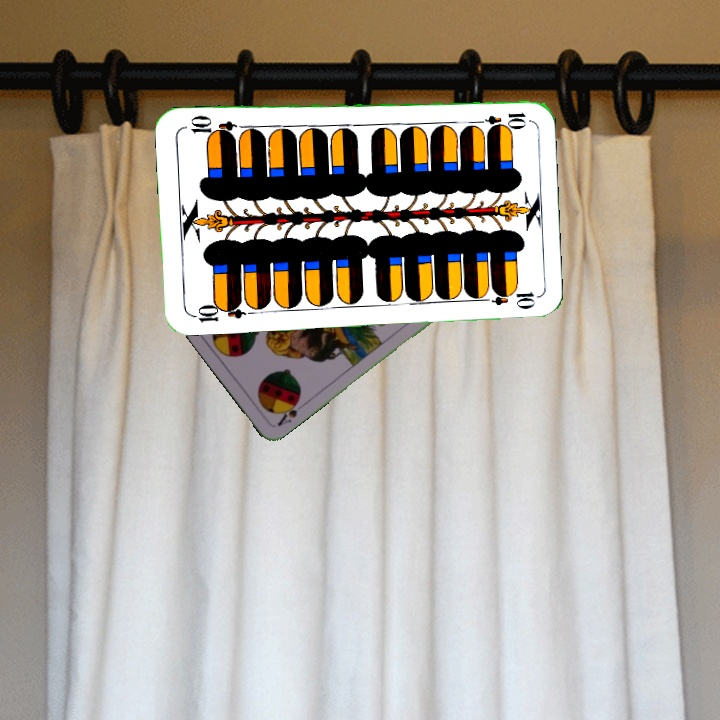E10: (188, 298, 247, 325), (470, 108, 529, 128)
SA: (273, 395, 307, 429)
